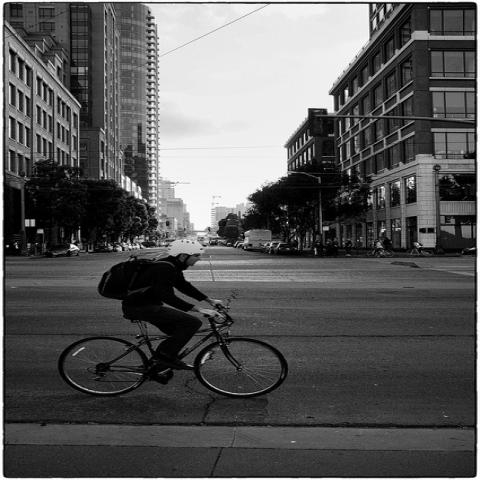bus: (241, 230, 271, 252)
car: (50, 244, 80, 257), (272, 243, 298, 255), (265, 242, 283, 254), (94, 243, 114, 253), (258, 241, 270, 251), (114, 244, 124, 252), (132, 242, 142, 250), (238, 243, 244, 249)
truck: (240, 230, 272, 250)
